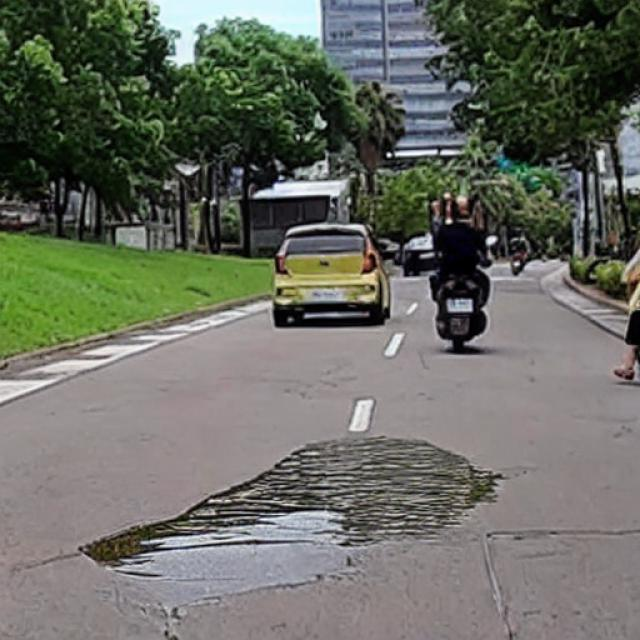puddle: (81, 439, 498, 588)
